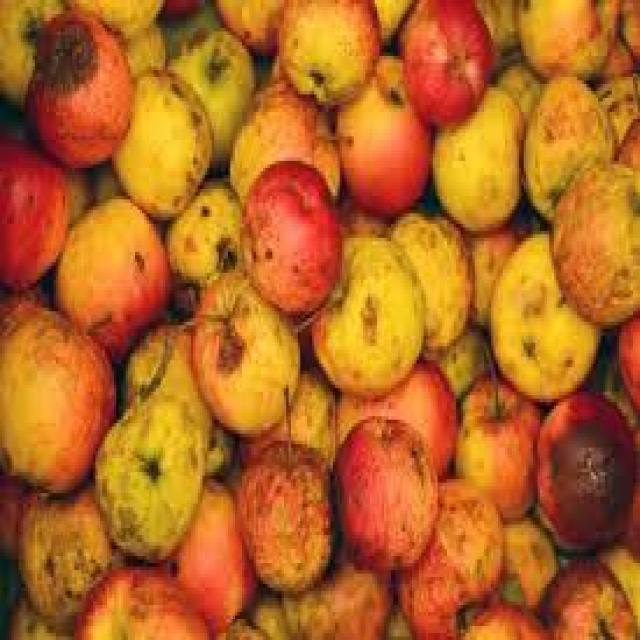organic waste: (0, 0, 638, 637), (0, 286, 116, 496), (484, 224, 603, 399), (237, 381, 333, 595), (188, 262, 298, 434), (307, 227, 421, 392), (91, 392, 202, 556), (53, 192, 170, 346), (121, 318, 235, 476), (21, 3, 135, 161), (393, 472, 498, 637), (331, 357, 456, 486), (331, 416, 435, 570), (533, 392, 633, 549), (547, 157, 638, 329), (333, 49, 428, 213), (151, 476, 256, 622), (107, 63, 210, 210), (226, 74, 337, 206), (12, 476, 112, 619), (428, 80, 526, 224), (517, 70, 614, 206), (165, 24, 256, 168), (453, 364, 538, 514), (384, 206, 470, 354), (398, 0, 493, 119), (72, 560, 212, 636), (279, 538, 386, 636), (274, 0, 377, 101), (0, 133, 63, 287), (440, 203, 521, 318), (533, 552, 638, 636), (245, 364, 338, 458), (163, 175, 237, 287), (512, 0, 619, 77), (538, 552, 630, 636), (0, 0, 60, 101), (461, 220, 516, 322), (496, 507, 554, 602), (588, 532, 638, 636), (461, 588, 549, 636), (426, 318, 486, 388), (596, 66, 638, 161), (209, 0, 283, 52), (58, 0, 165, 35), (5, 584, 74, 637), (610, 423, 638, 549), (114, 17, 165, 84), (607, 308, 638, 409), (475, 0, 519, 66), (493, 49, 542, 108), (333, 189, 393, 234), (0, 462, 28, 556), (584, 38, 635, 80), (370, 0, 417, 42), (614, 112, 638, 185), (63, 161, 91, 220), (216, 608, 270, 636), (616, 0, 637, 59), (155, 0, 202, 17)
